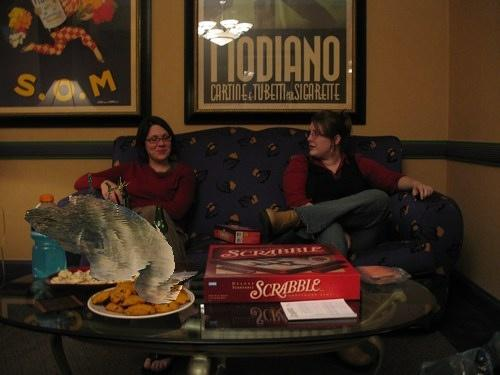tampered: (25, 173, 206, 305)
